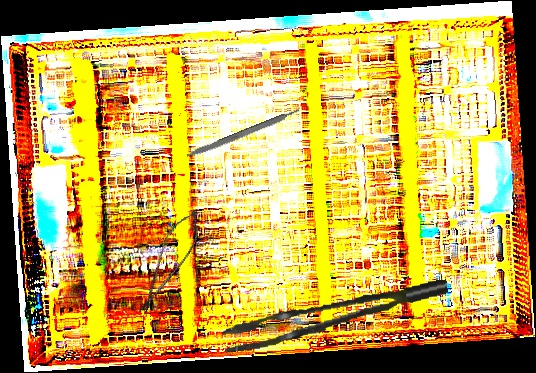Micro Scissor: (129, 201, 210, 323)
Scalpel Handle: (185, 107, 302, 161)
Tissue Forceps: (220, 279, 452, 353)
